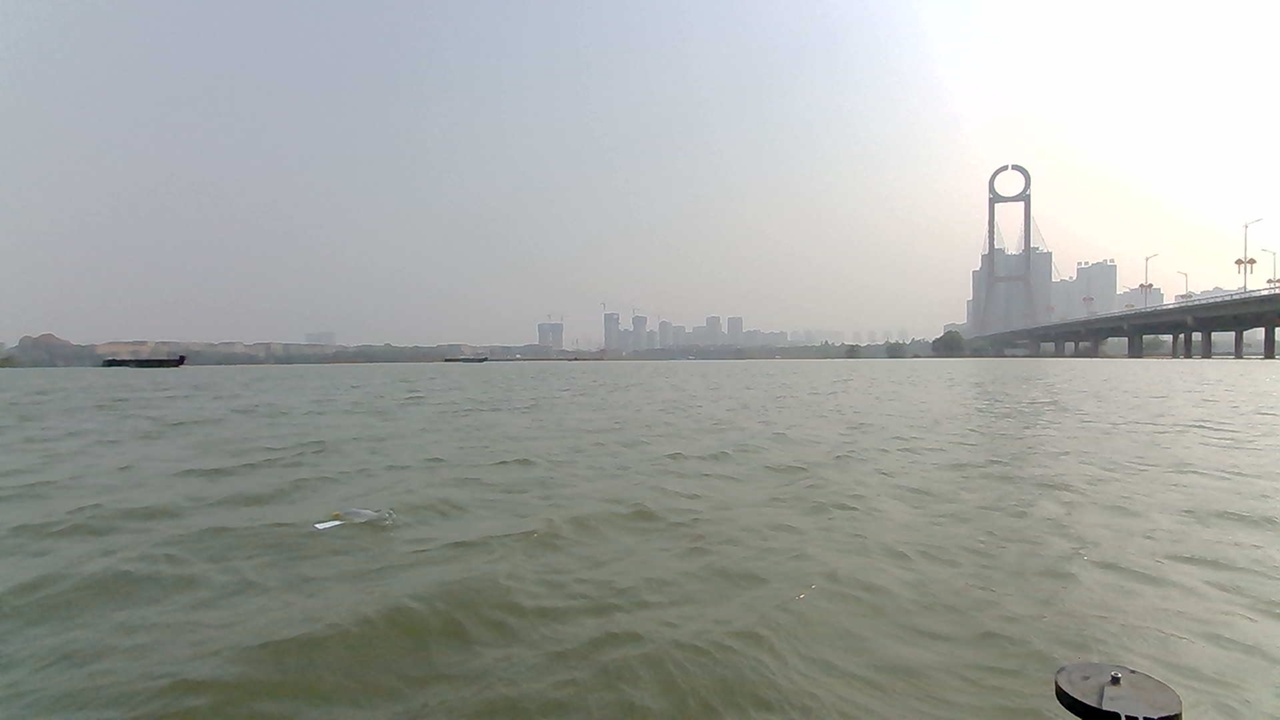bottle: (256, 530, 399, 591)
